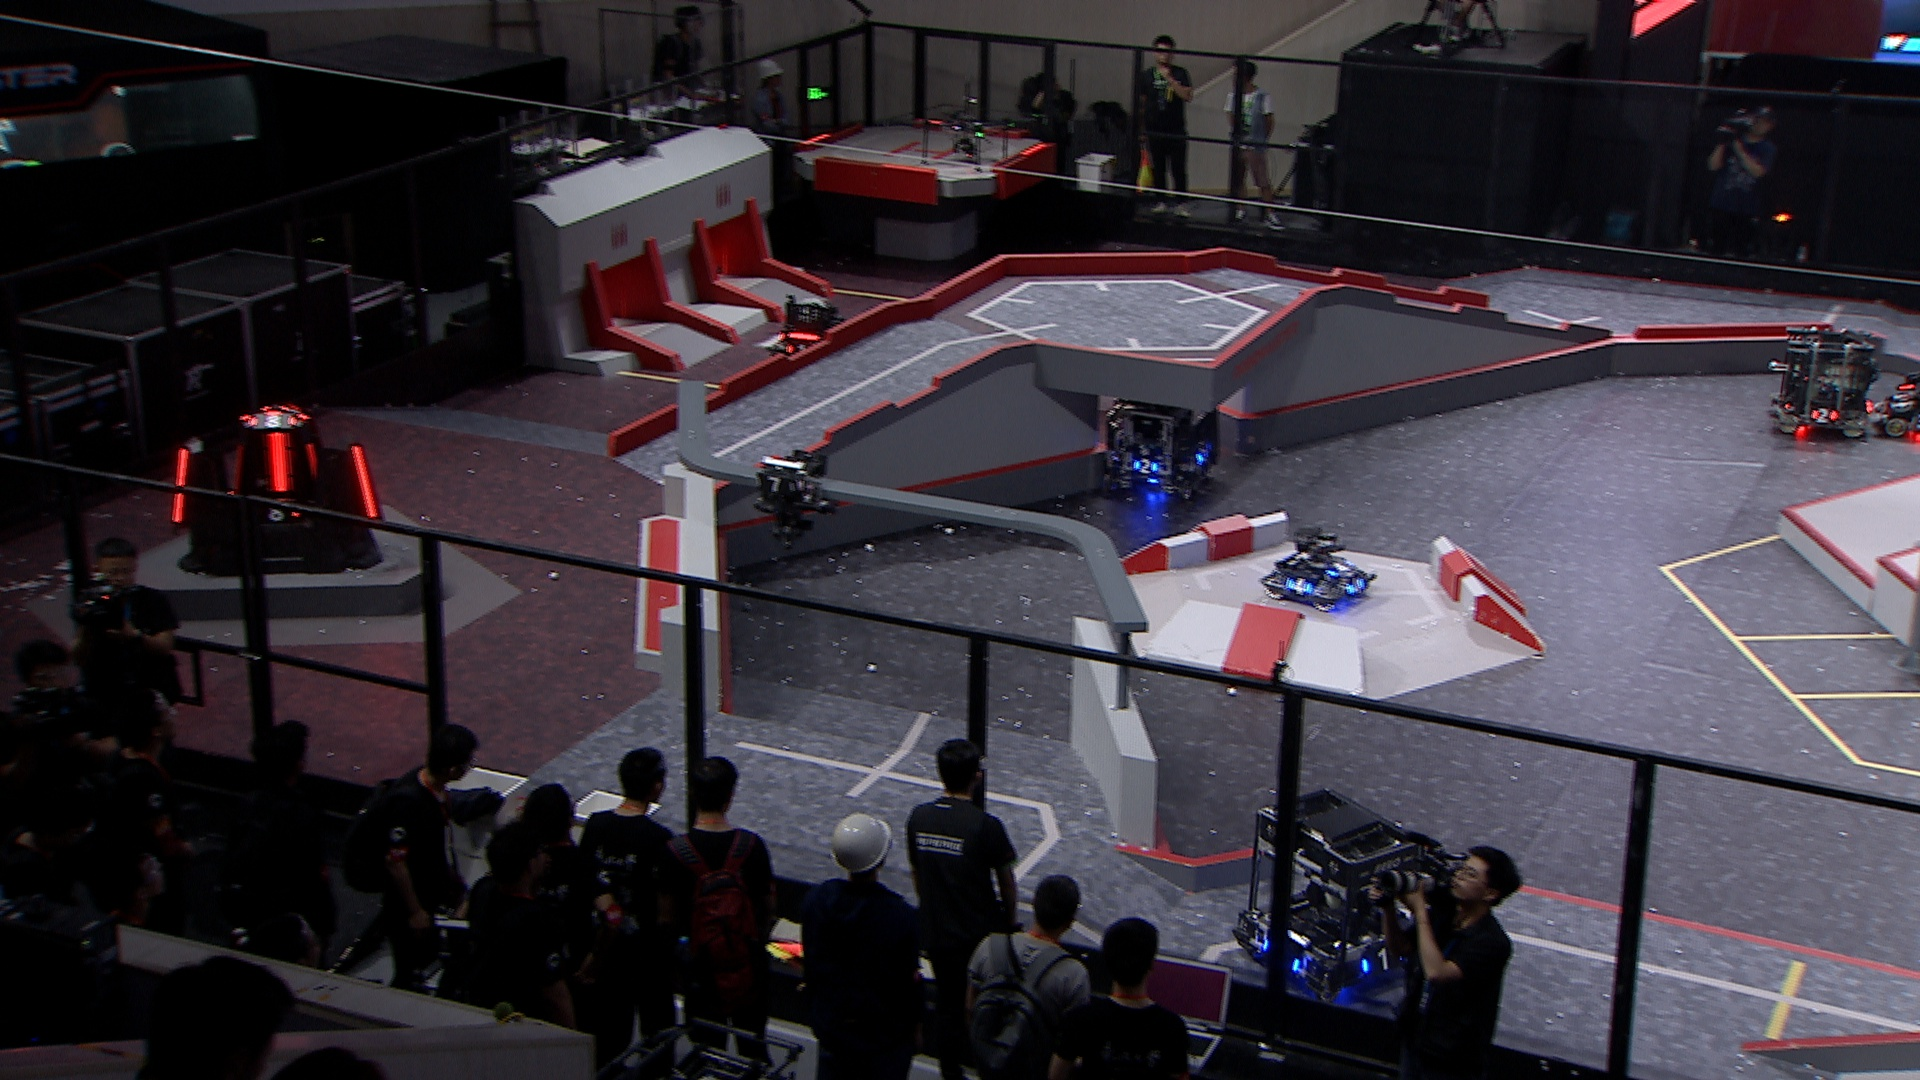armor: (347, 442, 382, 520), (167, 447, 193, 526), (264, 433, 291, 496), (1360, 945, 1399, 977), (225, 439, 245, 500), (245, 413, 302, 433), (752, 472, 795, 496), (261, 505, 301, 526), (301, 439, 320, 480), (1807, 405, 1840, 425), (1131, 458, 1160, 477), (1286, 578, 1315, 597), (1344, 575, 1367, 593), (1325, 560, 1353, 575), (785, 342, 808, 356), (1195, 447, 1211, 467)
base: (162, 400, 385, 579)
car: (1232, 789, 1437, 1002), (1097, 389, 1222, 505), (1768, 324, 1884, 440), (1257, 526, 1378, 612), (764, 295, 858, 373), (1878, 372, 1920, 440)
watcher: (750, 450, 835, 545)
